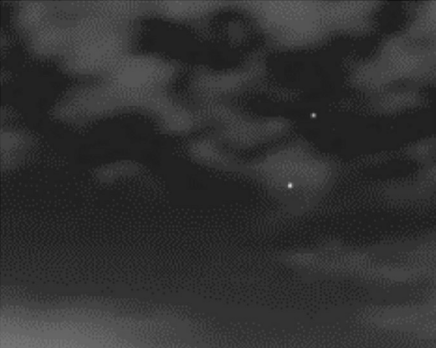Target: (288, 114, 315, 187)
